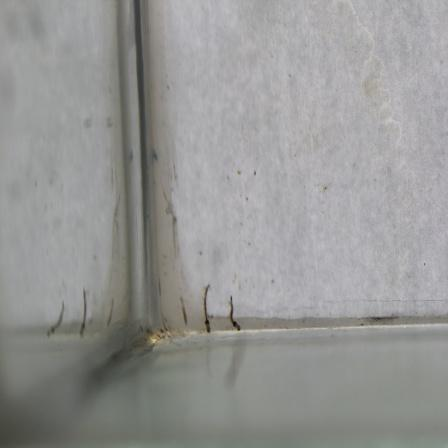Jentik-Nyamuk: (196, 279, 217, 337), (226, 291, 245, 334)
